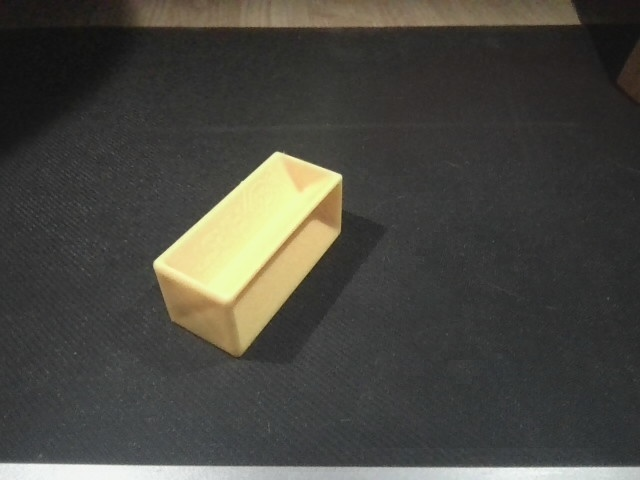YellowSample: (149, 149, 348, 360)
